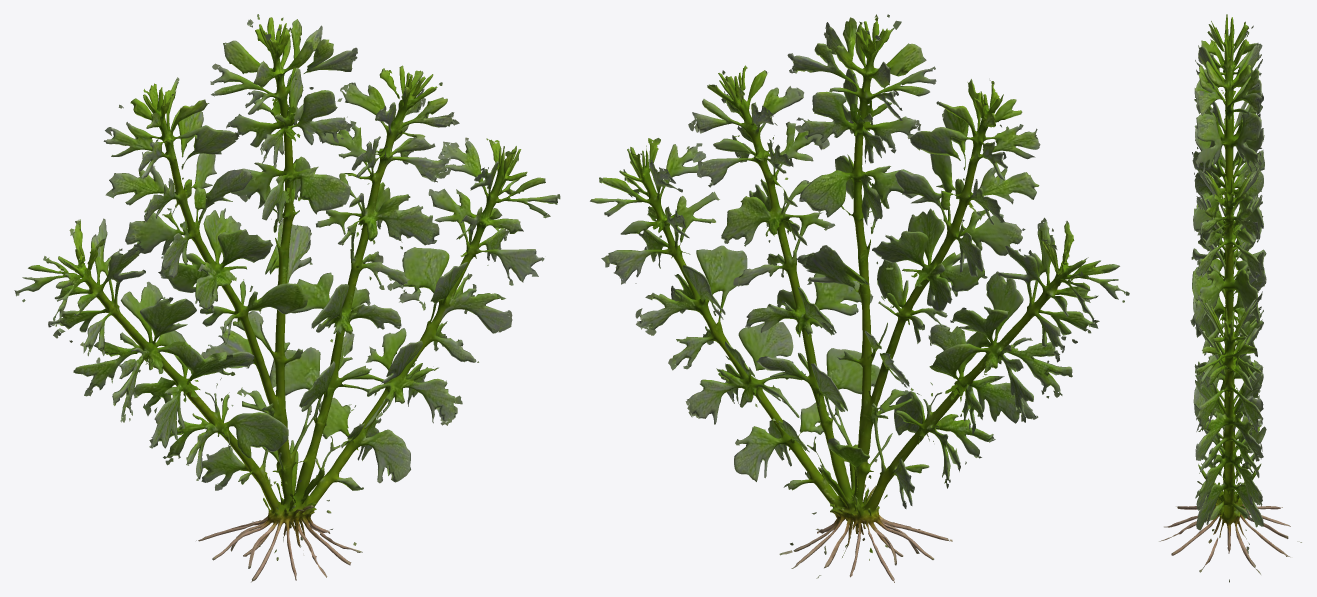
The model's file is aquatic+plant+3d+model.glb.
3 renders of one model, left to right at view 1: azimuth 30°, elevation 25°; view 2: azimuth 150°, elevation 25°; view 3: azimuth 270°, elevation 25°, orthographic. The views are drawn at different scales.
Parts seen in each view (by area): view 1: tripo_node_4484f277-3682-4ed7-b0ea-86fecc044d7f; view 2: tripo_node_4484f277-3682-4ed7-b0ea-86fecc044d7f; view 3: tripo_node_4484f277-3682-4ed7-b0ea-86fecc044d7f.
Boxes of the visible parts, left/top/right/bottom form: tripo_node_4484f277-3682-4ed7-b0ea-86fecc044d7f: left=14, top=14, right=560, bottom=582; tripo_node_4484f277-3682-4ed7-b0ea-86fecc044d7f: left=590, top=14, right=1129, bottom=582; tripo_node_4484f277-3682-4ed7-b0ea-86fecc044d7f: left=1159, top=14, right=1301, bottom=582.
Bounding box in the file's own units: 0.9719 × 0.9964 × 0.2546.
1 material, 1 textured.
